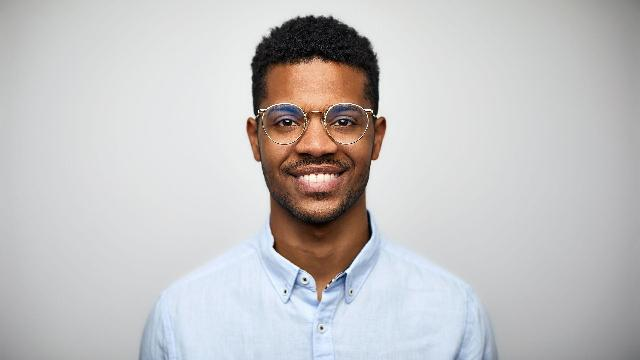person: (138, 17, 498, 358)
